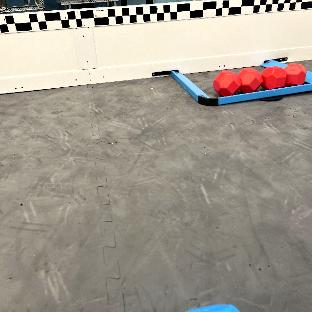Parking-R: (154, 58, 312, 105)
V5_BLUE: (188, 305, 238, 312)
